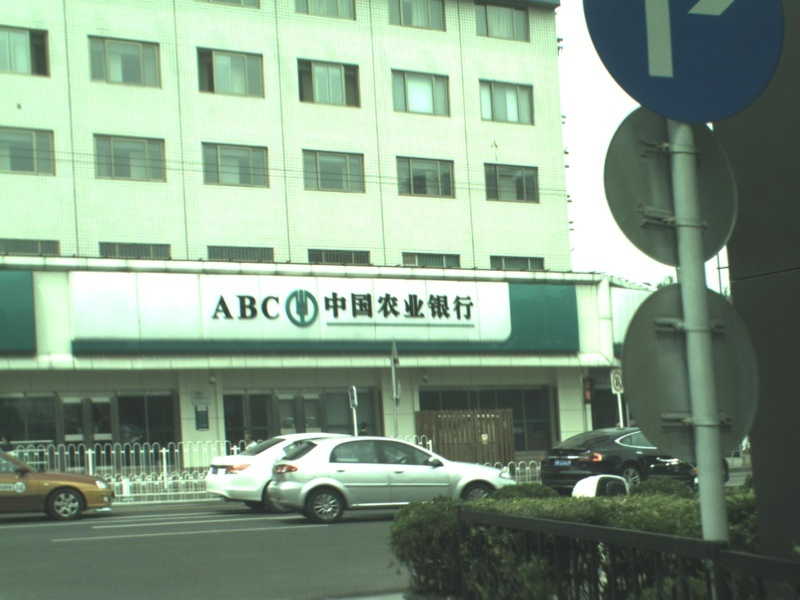text: (337, 292, 352, 321), (353, 292, 368, 321), (369, 292, 384, 321), (385, 292, 400, 321), (401, 292, 416, 321), (417, 292, 432, 321), (433, 292, 448, 321), (449, 292, 464, 321), (323, 292, 336, 321), (225, 296, 240, 321), (241, 296, 256, 321), (257, 296, 272, 321), (465, 292, 476, 321), (213, 296, 224, 321), (273, 296, 280, 321), (616, 378, 624, 387), (1, 485, 16, 489), (561, 461, 572, 466), (17, 485, 24, 491), (555, 461, 560, 466)
